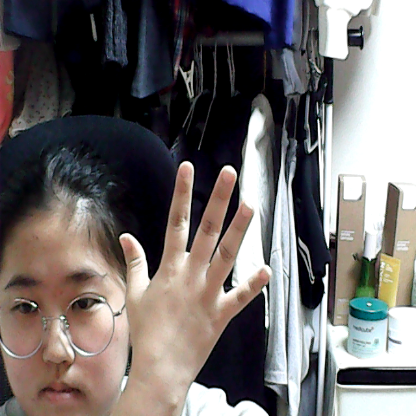Finger_5: (113, 145, 278, 372)
